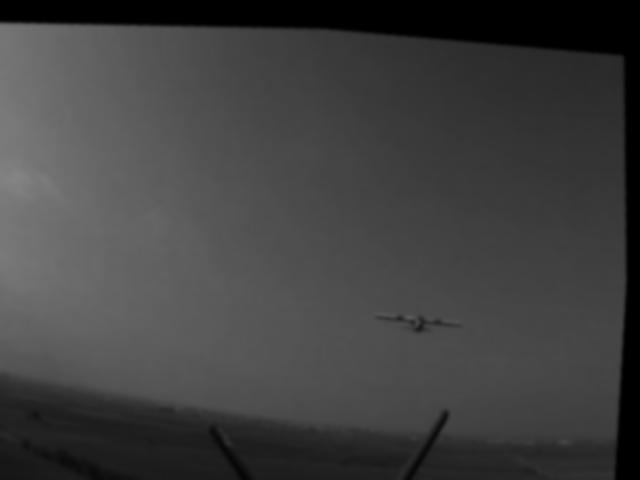hedef: (367, 281, 475, 352)
